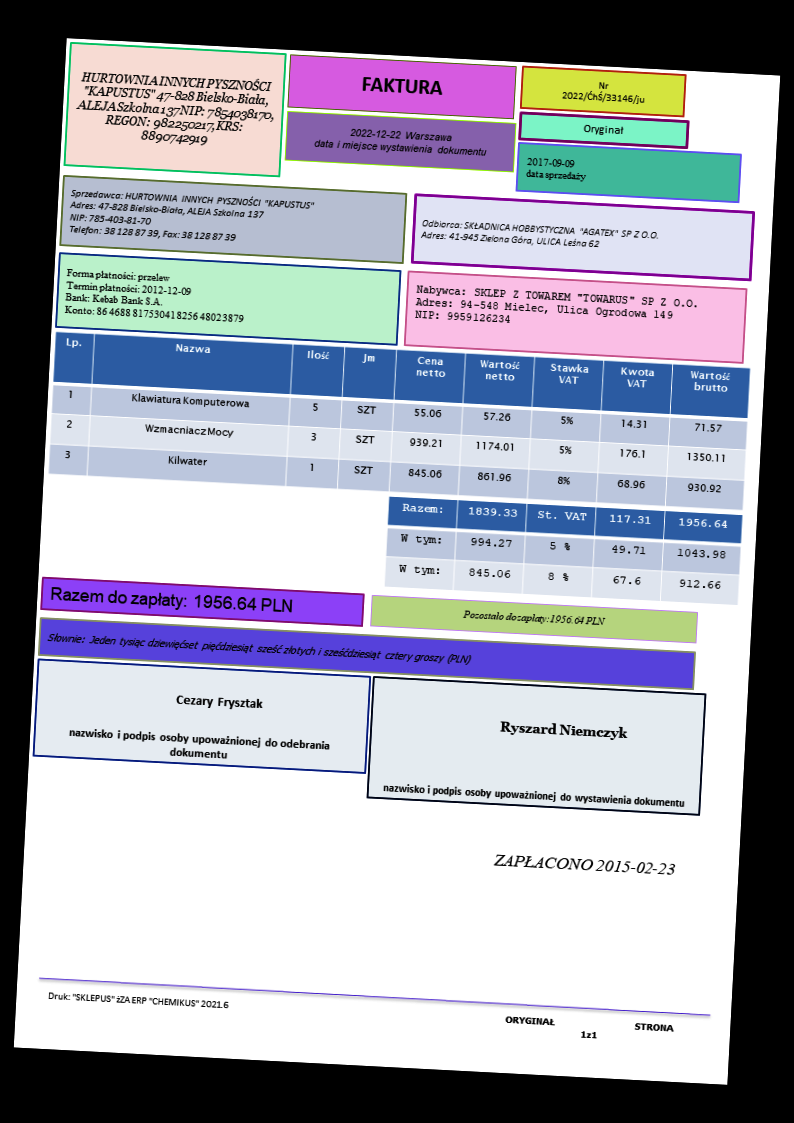Table: (46, 329, 752, 512), (383, 496, 745, 606)
TextBox: (73, 68, 279, 152), (46, 630, 473, 668), (66, 187, 317, 249), (412, 282, 701, 335), (63, 265, 249, 325), (64, 725, 333, 765), (380, 780, 687, 811), (418, 214, 661, 253), (48, 583, 294, 618), (313, 124, 490, 159), (501, 1013, 676, 1046), (491, 851, 678, 878), (46, 990, 231, 1012), (499, 717, 629, 742), (461, 607, 608, 628), (560, 78, 647, 107), (359, 73, 445, 98), (523, 154, 588, 183), (175, 692, 265, 712), (582, 121, 625, 138)
